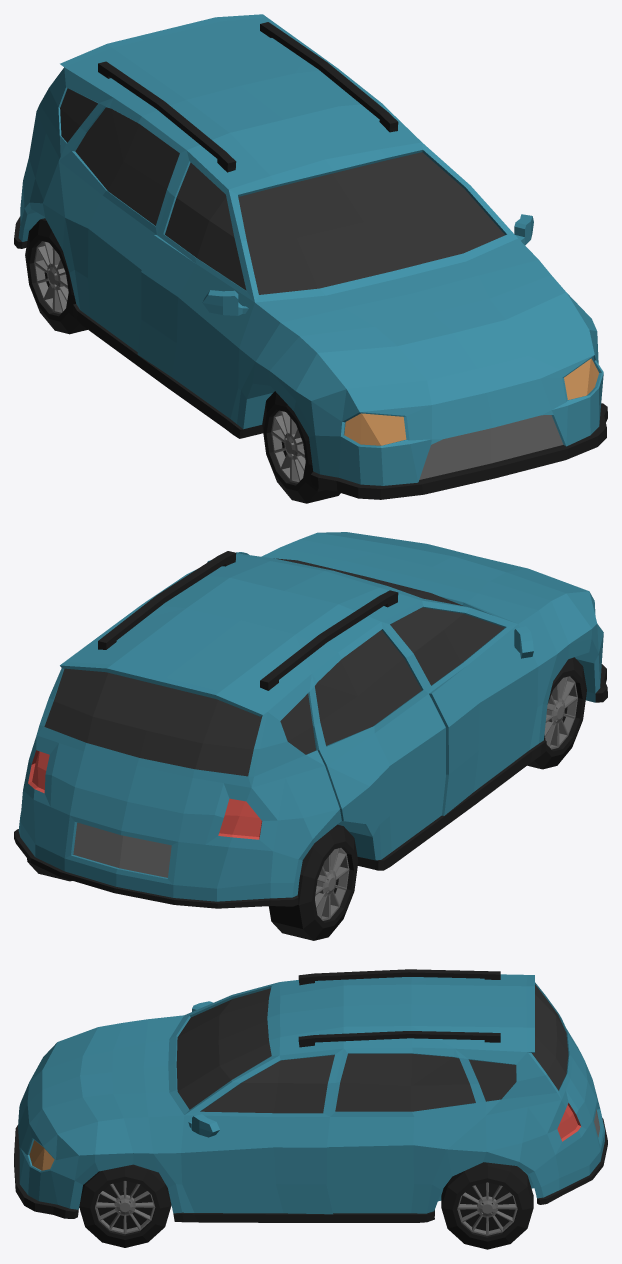
The model's file is suv-teal.glb.
3 views of the same model, one above another, from view 1: azimuth 30°, elevation 25°; view 2: azimuth 150°, elevation 25°; view 3: azimuth 270°, elevation 25° (orthographic). The views are drawn at different scales.
Visible parts, largest first — view 1: SUV_Cube; view 2: SUV_Cube; view 3: SUV_Cube.
Boxes of the visible parts, box(x1,y1,x2,y2) form: SUV_Cube: box(14, 14, 607, 503); SUV_Cube: box(14, 532, 607, 940); SUV_Cube: box(14, 969, 607, 1249).
Bounding box in the file's own units: 2.11 × 1.53 × 4.21.
